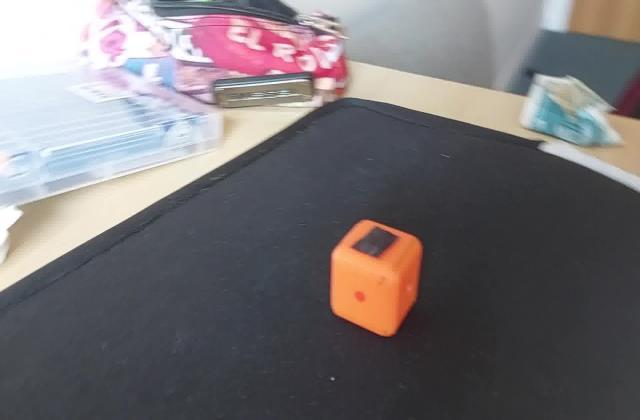black: (350, 226, 400, 264)
cube: (328, 217, 426, 342)
